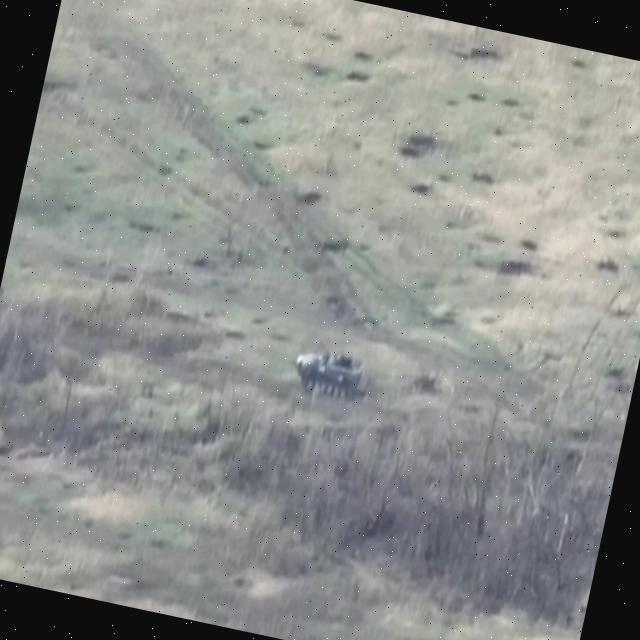AIFV: (285, 335, 370, 407)
